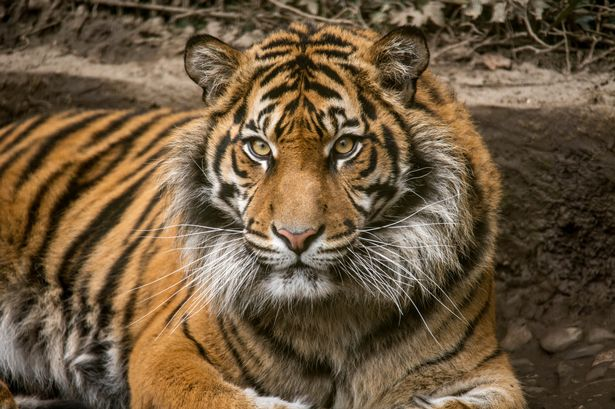Tiger: (17, 18, 517, 409)
